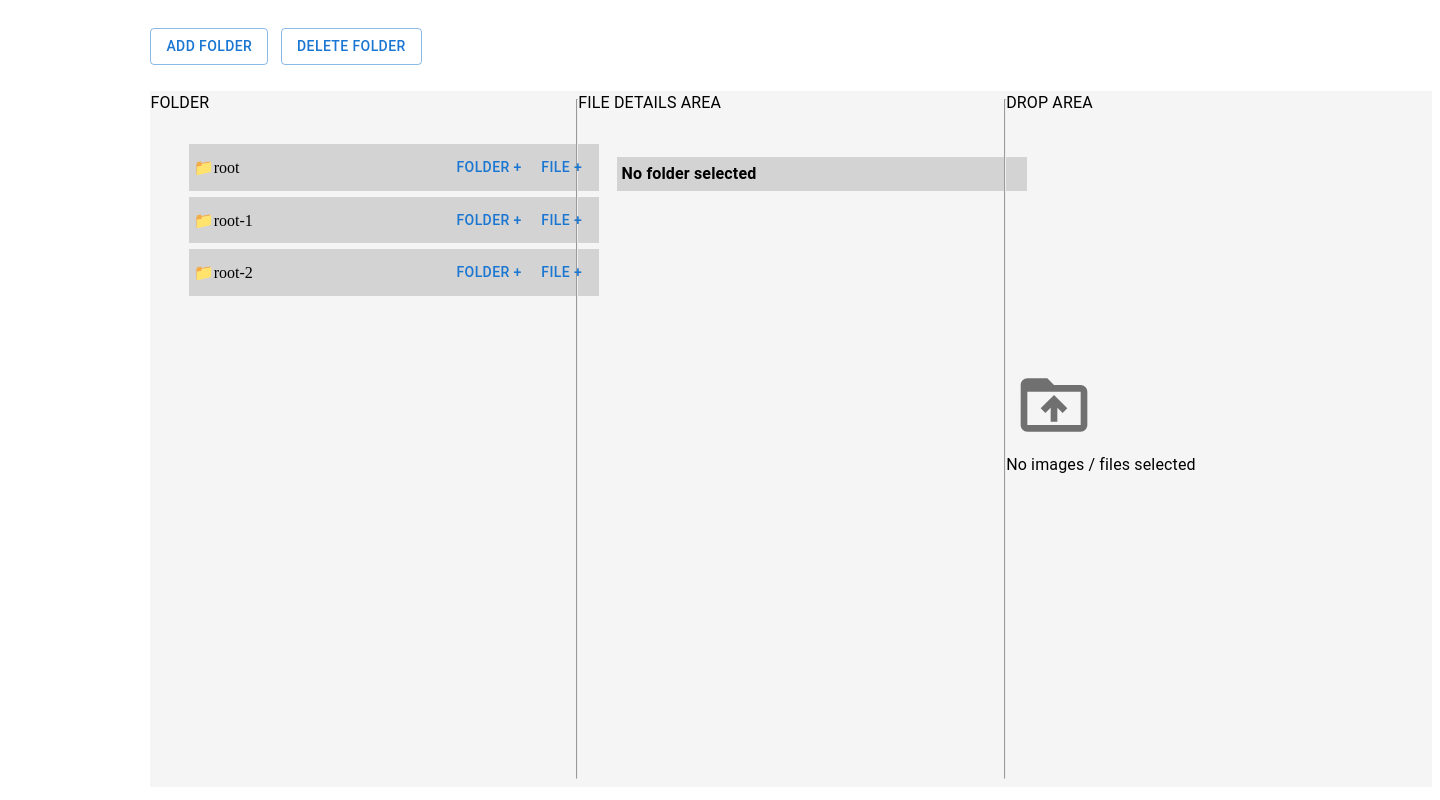
<Home /> › adds a new folder
Click the button with test id "add-folder-btn": (209, 48) left=150, top=29, right=268, bottom=66
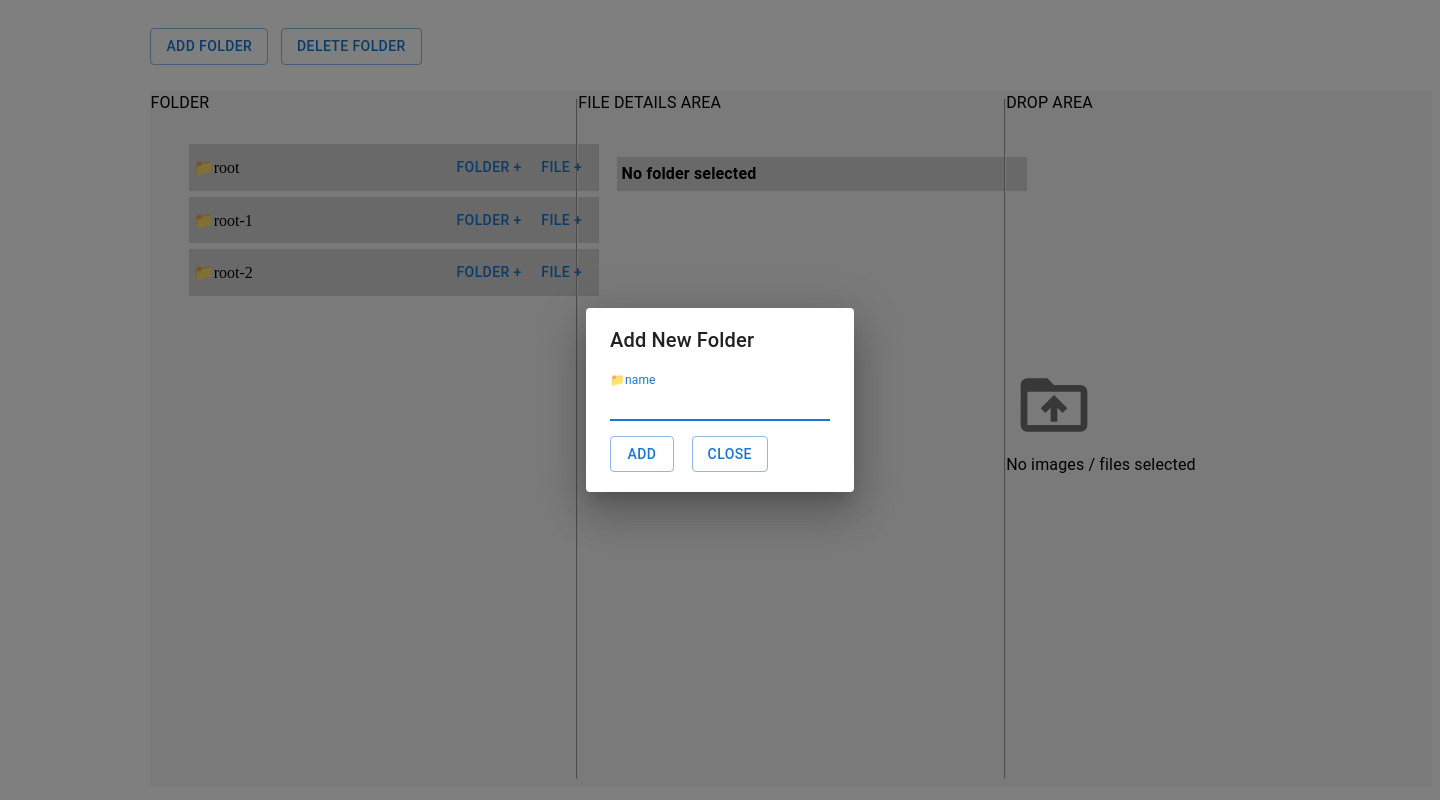
In the element with test id "new-folder-input": (720, 397) left=610, top=373, right=830, bottom=421, type "Add New Folder"
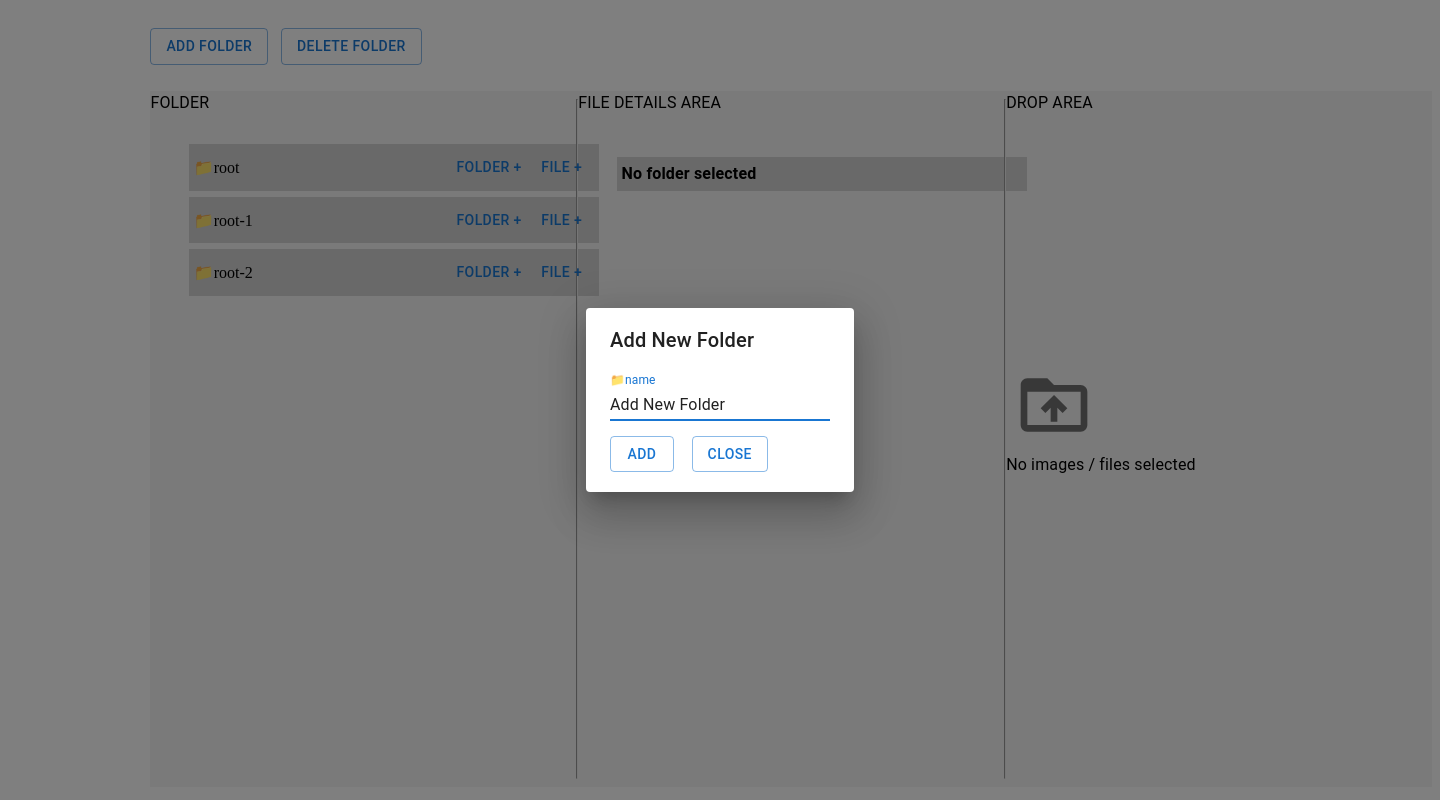
Click the button with test id "submit-folder-btn": (642, 455) left=610, top=436, right=674, bottom=473
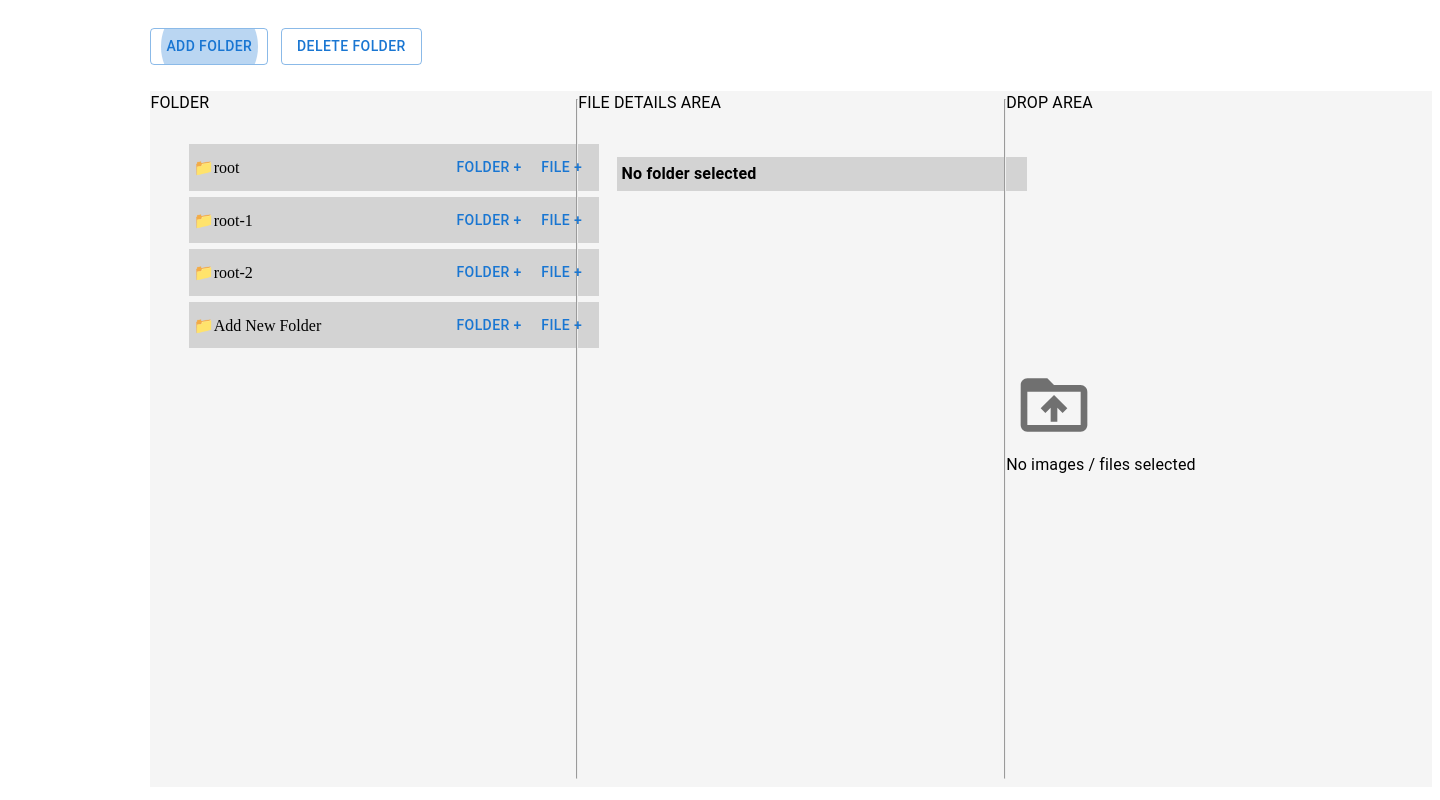
Now the text "Add New Folder" is shown, box left=214, top=317, right=322, bottom=334
